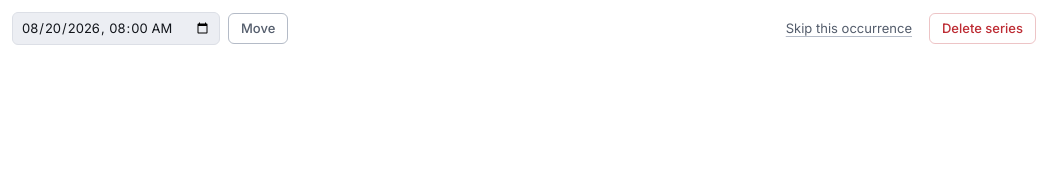
what the daemon refuses › says which write failed when a move is refused
The width and height of the screenshot is (1048, 172).
Click the button "Move" at (258, 29), box 228,13 -> 288,44
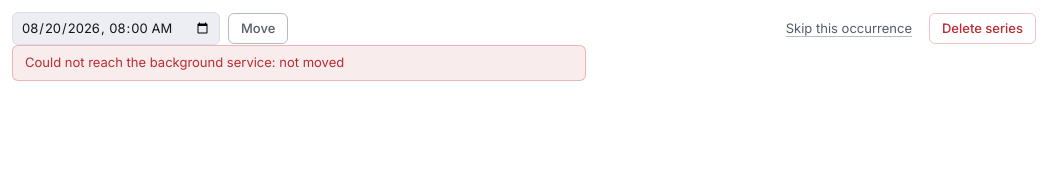
Check: the text "Could not reach the background service: not moved" is shown, box 25,54 -> 344,70
